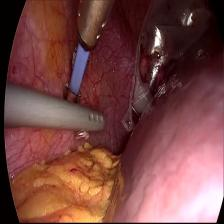Bipolar: (57, 3, 112, 109)
Irrigator: (76, 102, 108, 140)
Specimen Bag: (118, 0, 222, 140)
